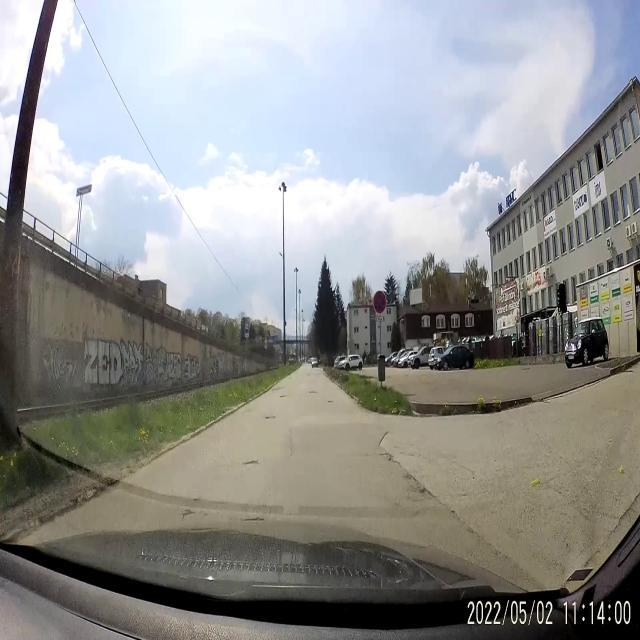Pothole: (404, 468, 432, 507), (180, 498, 203, 526), (240, 452, 263, 480), (380, 443, 398, 468), (237, 508, 265, 524), (260, 411, 278, 426), (272, 392, 290, 406), (306, 386, 322, 396), (325, 397, 335, 406)
